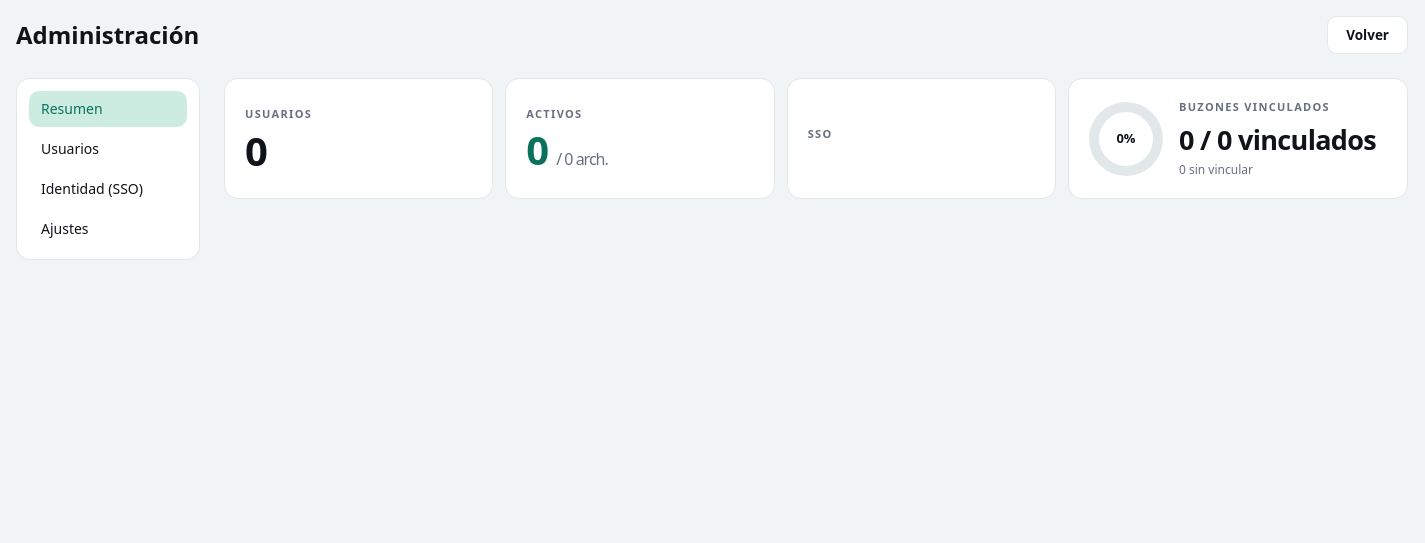
it: AdminPage SSO config panel › shows configured status and issuer, with the client secret input left empty
Click the button "Identidad (SSO)": point(108, 189) [29,171,187,207]
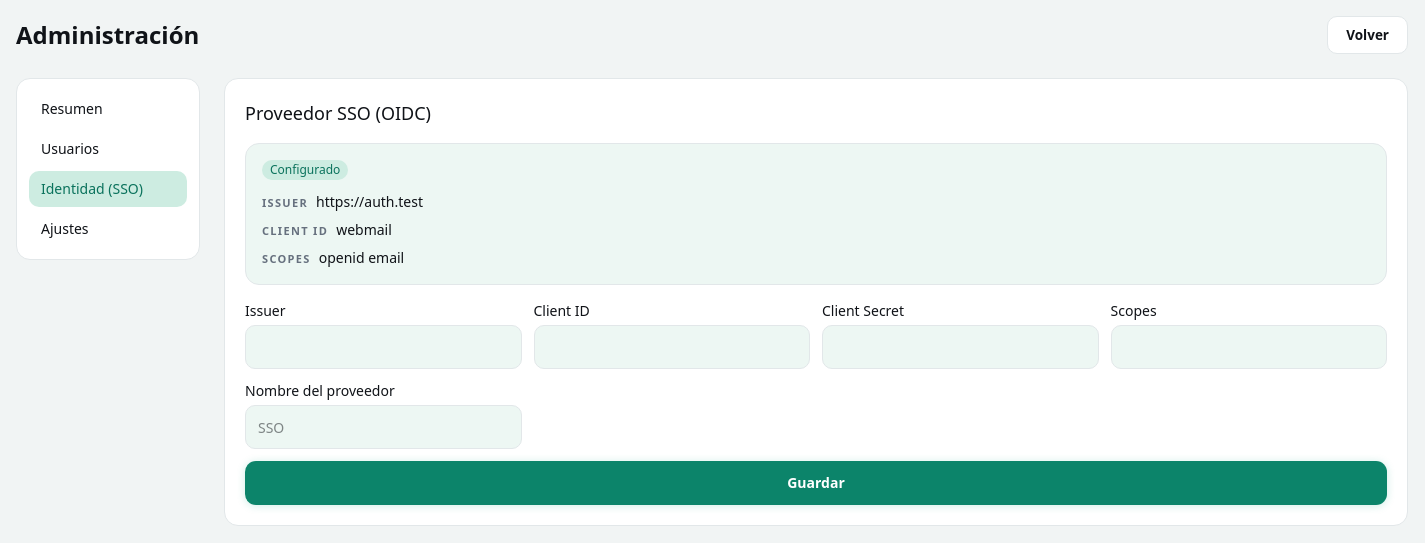
Expected: the password field labelled "Client Secret" is empty, [822,325,1098,369]
Result: the text "Configurado" is shown at [262,160,348,180]
Result: the text "https://auth.test" is shown at [316,192,423,212]
